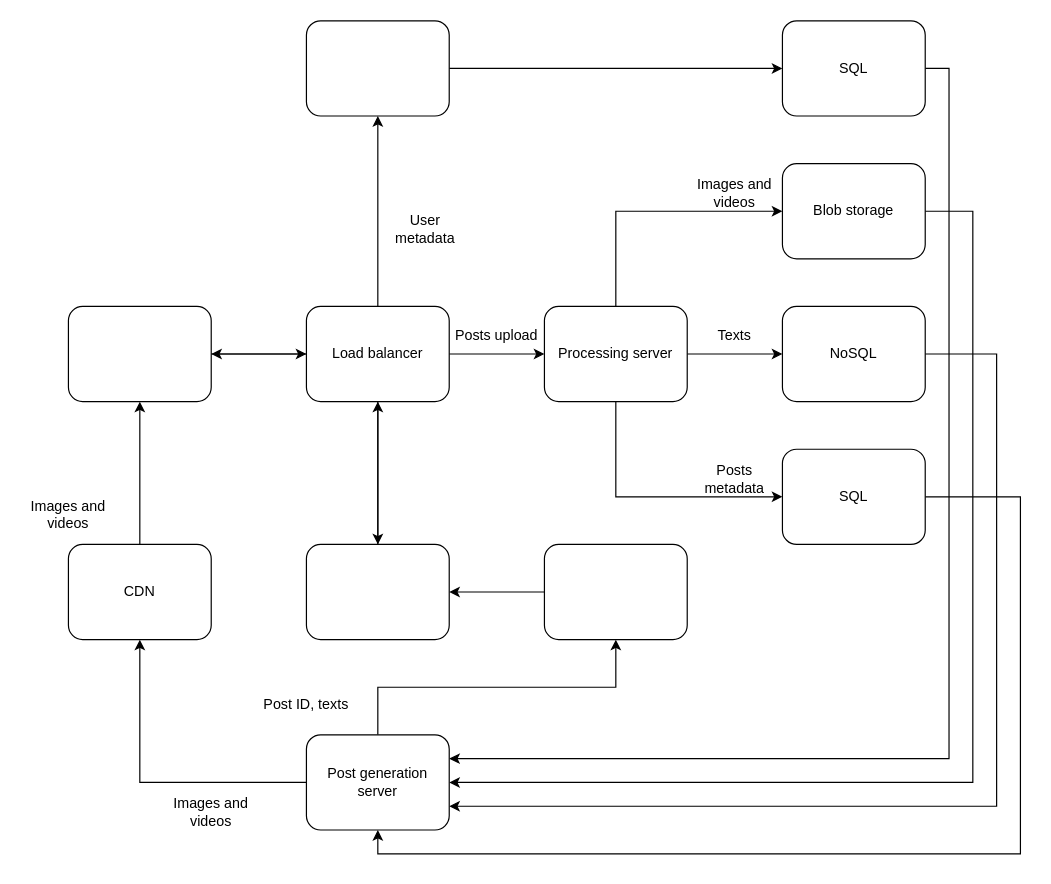
Some shapes in this 1051 by 884 pixel diagram are drawn without their labels. Here are the shapes that lost their labels. From the top down, the centre of each, then its label:
(377,68): User handling server
(139,353): User
(377,591): Application server
(615,591): Post DB
